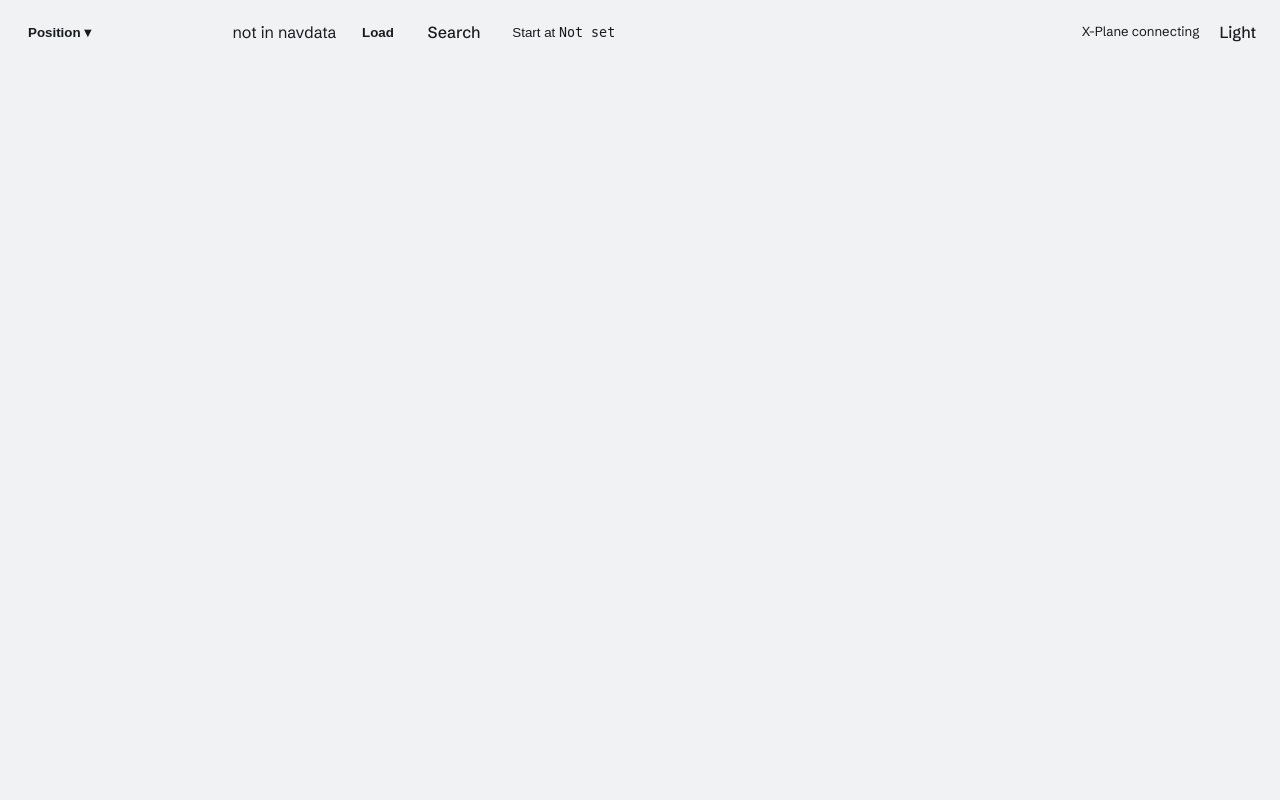
Scenario: the screen menu › lists every module tab
Click the button "Position ▾" at [60, 32], box [16,10,103,54]
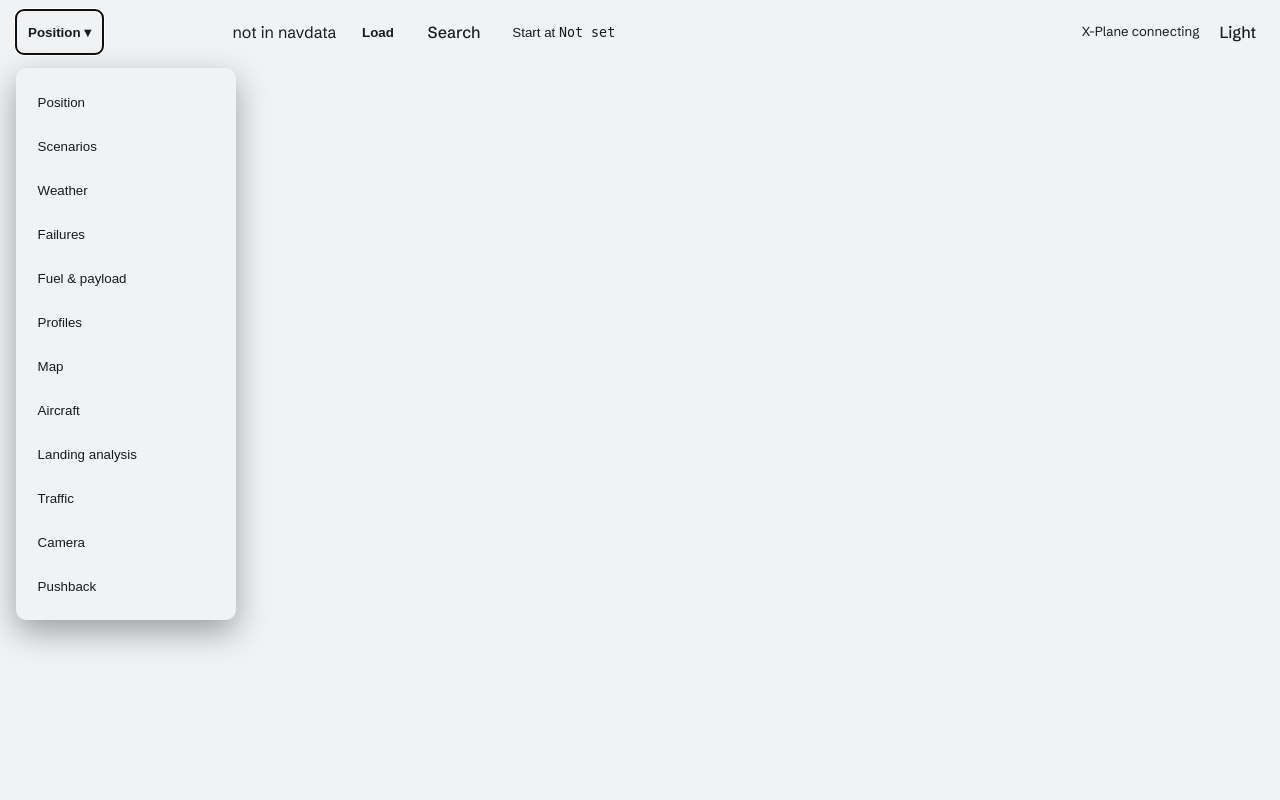
Now the menu item "Position" is shown, box [28,80,95,124]
Now the menu item "Scenarios" is shown, box [28,124,106,168]
Now the menu item "Weather" is shown, box [28,168,97,212]
